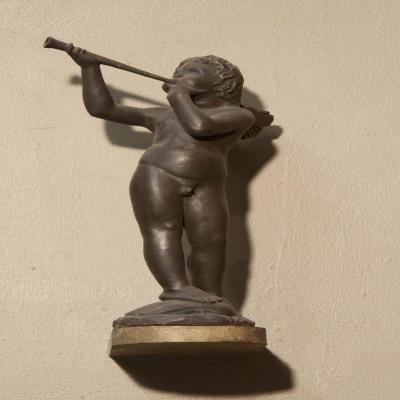sculpture: (43, 38, 284, 332)
